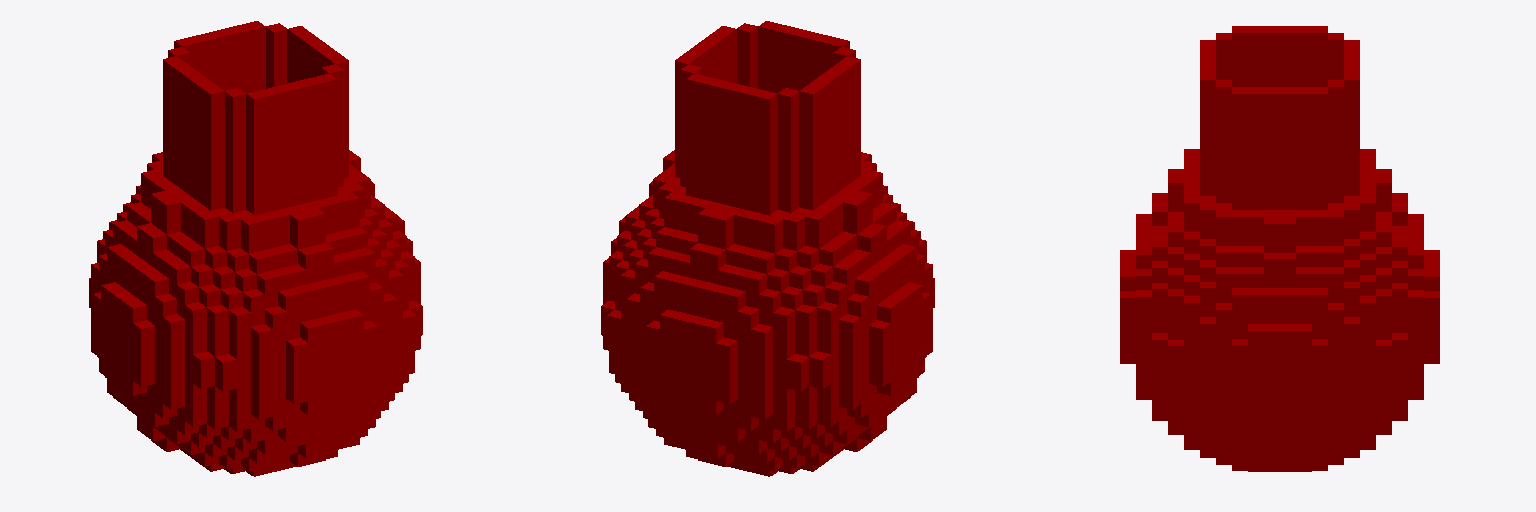
3 views of the same model, side by side, from view 1: azimuth 30°, elevation 25°; view 2: azimuth 150°, elevation 25°; view 3: azimuth 270°, elevation 25° (orthographic).
Parts seen in each view (by area): view 1: object 1; view 2: object 1; view 3: object 1.
Part boxes in pixels (x1,y1,x2,y2): object 1: (89,21,422,476); object 1: (601,21,934,476); object 1: (1120,26,1439,471).
Size of the model in its own units: 2 by 2.7 by 2.
1 materials, 1 textured.